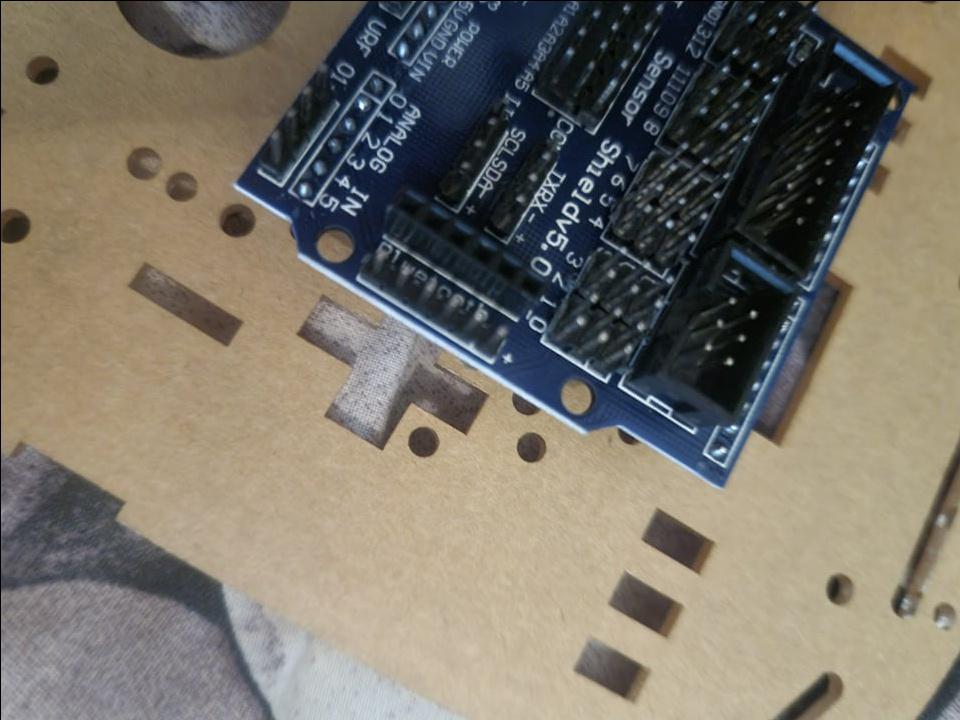5V EXPANSION: (231, 0, 919, 488)
